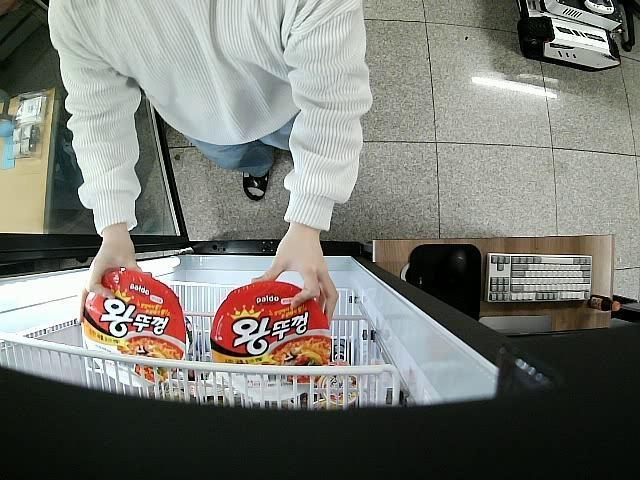10_wangTtukkeong: (210, 280, 332, 399), (82, 271, 184, 388)
